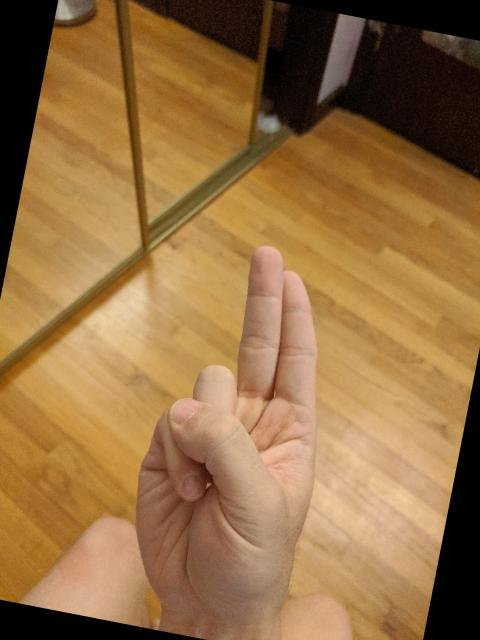U: (107, 222, 362, 634)
